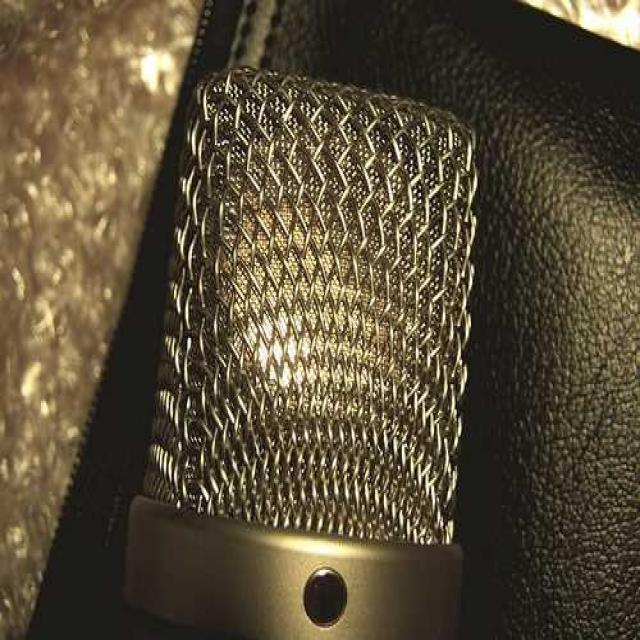microphone: (128, 37, 490, 578)
